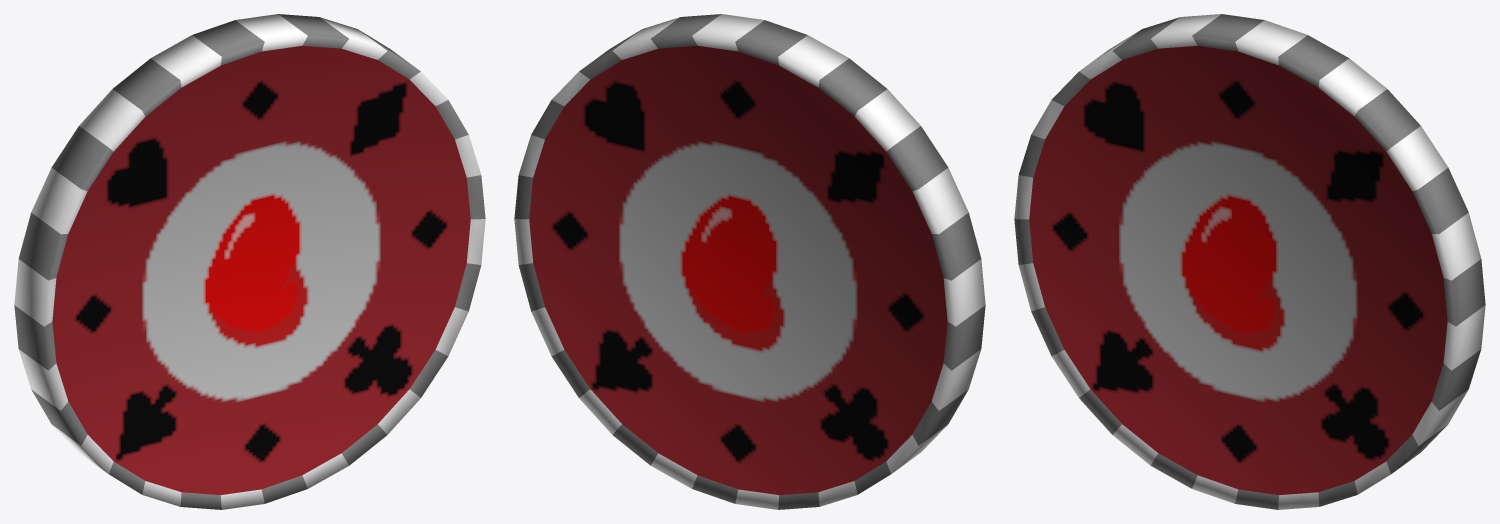
The model's file is chip.fbx.
3 renders of one model, left to right at view 1: azimuth 30°, elevation 25°; view 2: azimuth 150°, elevation 25°; view 3: azimuth 330°, elevation 25°, orthographic.
Parts seen in each view (by area): view 1: Cylinder; view 2: Cylinder; view 3: Cylinder.
Part boxes in pixels (bbox=[...]): Cylinder: bbox=[14, 14, 485, 509]; Cylinder: bbox=[514, 14, 985, 509]; Cylinder: bbox=[1014, 14, 1485, 509].
Size of the model in its own units: 200 by 200 by 23.38.
